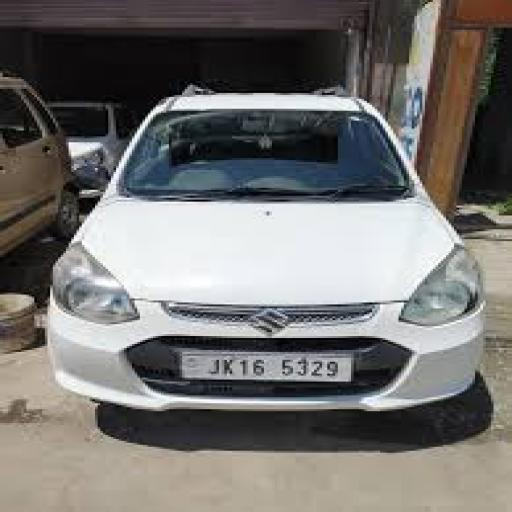License: (178, 345, 360, 381)
